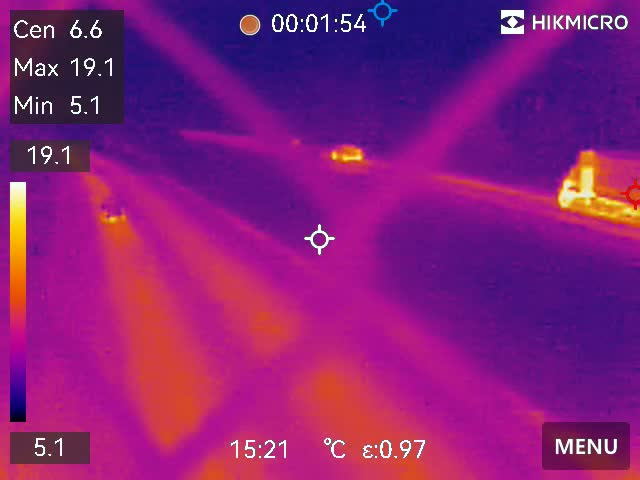heavyTruck: (551, 144, 640, 218)
vehicle: (327, 141, 368, 163)
